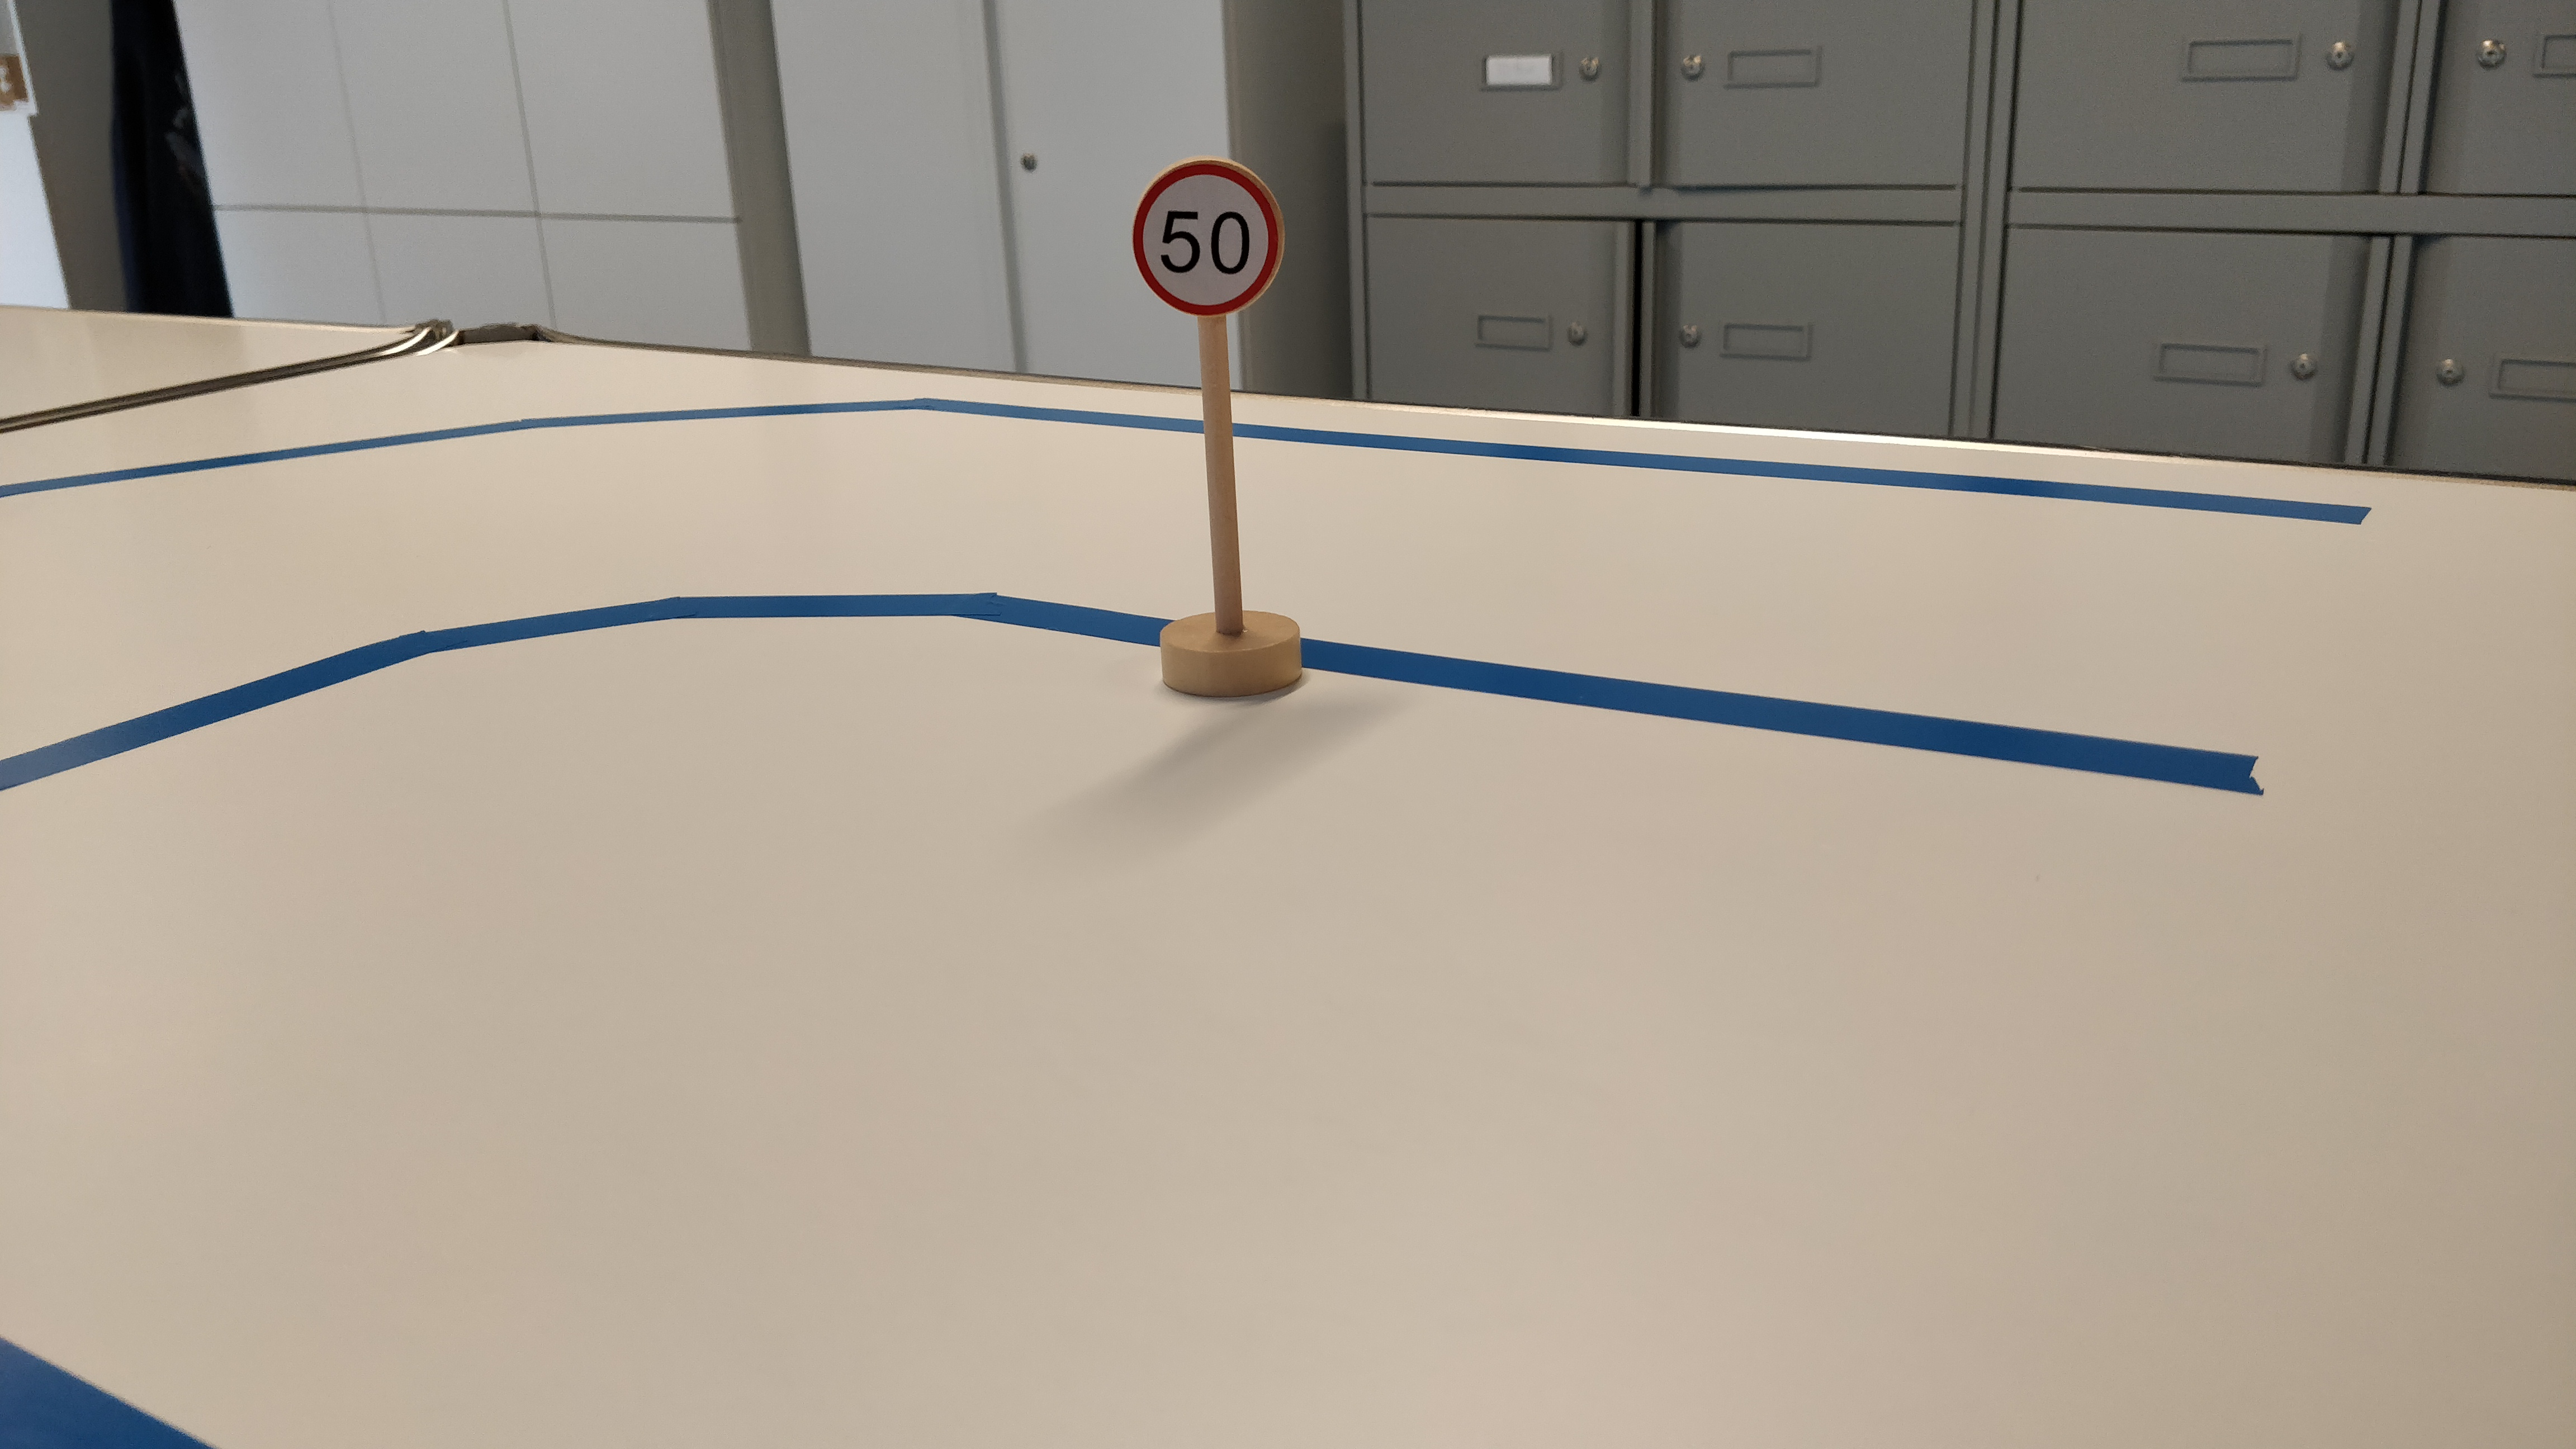Speed Limit 50: (1129, 156, 1292, 321)
